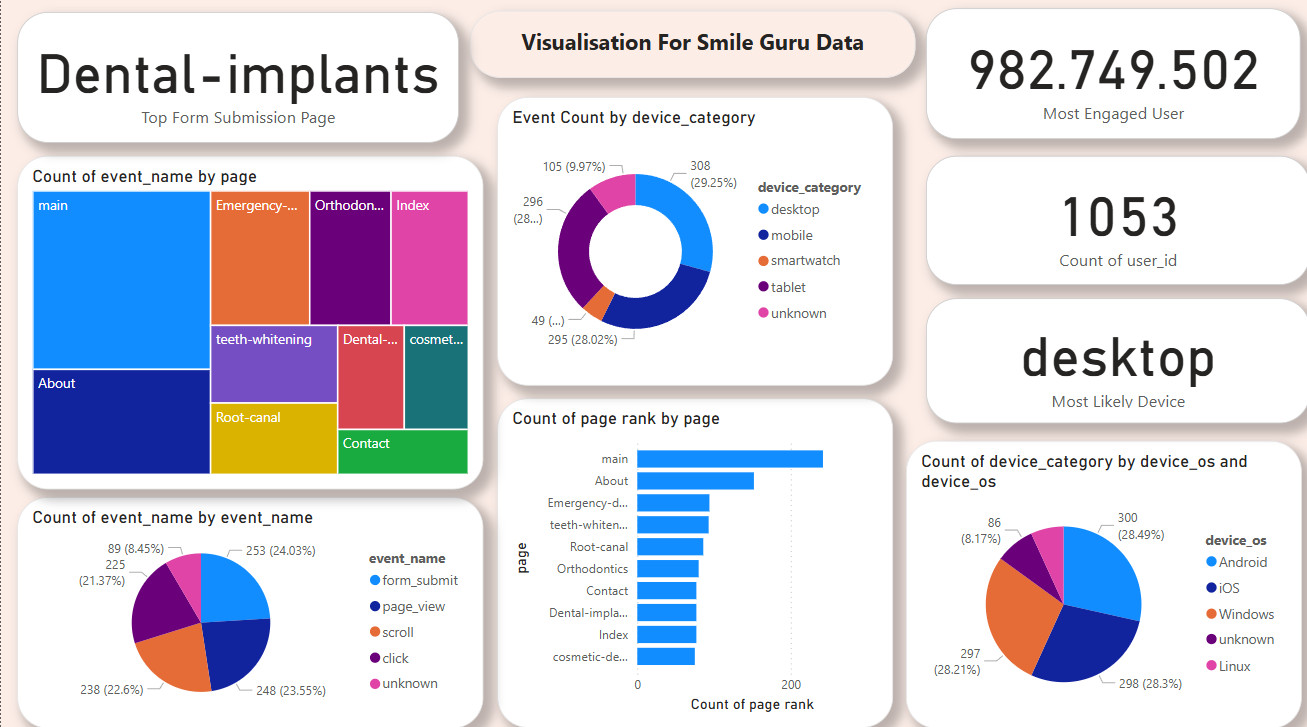

The dashboard page shown, as its layout file describes it:
{"tool":"powerbi","page":{"name":"Page 1","canvas":[1280,720],"ordinal":0},"visuals":[{"type":"clusteredBarChart","fields":{"Category":["smiler1.page"],"Y":["CountNonNull(smiler1.page)"]},"box":[485.8,397.9,387,322.5],"z":0},{"type":"pieChart","fields":{"Category":["smiler1.device_os"],"Series":["smiler1.device_os"],"Y":["CountNonNull(smiler1.device_category)"]},"box":[885.1,439.1,387,281.3],"z":1000},{"type":"pieChart","fields":{"Category":["smiler1.event_name"],"Y":["CountNonNull(smiler1.event_name)"]},"box":[15.9,494,456.1,226.2],"z":2000},{"type":"treemap","fields":{"Group":["smiler1.page"],"Values":["CountNonNull(smiler1.event_name)"]},"box":[15.9,160.2,456.1,326.5],"z":3000},{"type":"donutChart","fields":{"Y":["smiler1.Event Count"],"Series":["smiler1.device_category"]},"box":[485.8,102.9,387,282.7],"z":4000},{"type":"textbox","box":[458.3,17.8,436.4,65.9],"z":5000},{"type":"card","fields":{"Values":["CountNonNull(smiler1.user_id)"]},"box":[904.3,160.5,376,126.2],"z":6000},{"type":"card","fields":{"Values":["smiler1.Most Likely Device"]},"box":[904.3,299.1,376,122.1],"z":6001},{"type":"card","fields":{"Values":["smiler1.Top Form Submission Page"]},"box":[16.5,19.2,432.2,127.6],"z":6002},{"type":"card","fields":{"Values":["smiler1.Most Engaged User"]},"box":[904.3,16.5,366.4,127.6],"z":6003}]}

Visuals, with their boxes in screenshot pixels (x1, y1, x2, y2), scaled from the page's 1280x720 canvas onto the 1307x727 screenshot:
clusteredBarChart - smiler1.page x CountNonNull(smiler1.page): <box>496,402,891,726</box>
pieChart - smiler1.device_os x smiler1.device_os: <box>904,443,1299,726</box>
pieChart - smiler1.event_name x CountNonNull(smiler1.event_name): <box>16,499,482,726</box>
treemap - smiler1.page x CountNonNull(smiler1.event_name): <box>16,162,482,491</box>
donutChart - smiler1.Event Count x smiler1.device_category: <box>496,104,891,389</box>
textbox: <box>468,18,914,85</box>
card - CountNonNull(smiler1.user_id): <box>923,162,1306,289</box>
card - smiler1.Most Likely Device: <box>923,302,1306,425</box>
card - smiler1.Top Form Submission Page: <box>17,19,458,148</box>
card - smiler1.Most Engaged User: <box>923,17,1298,146</box>
